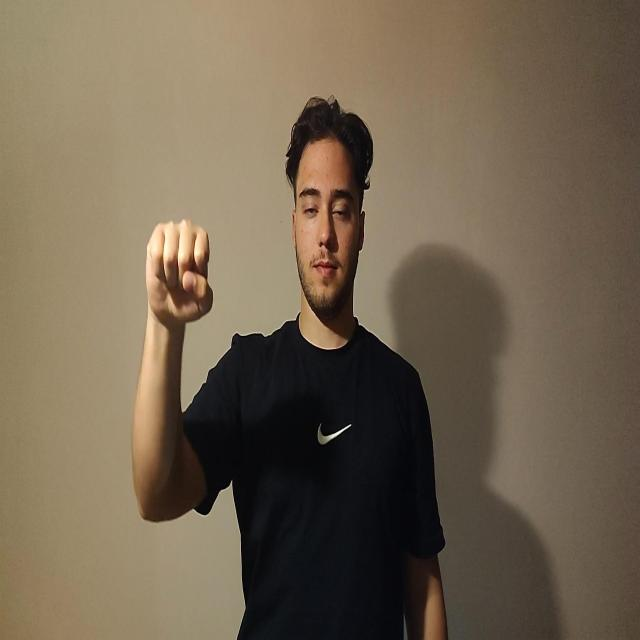yes: (145, 218, 213, 328)
